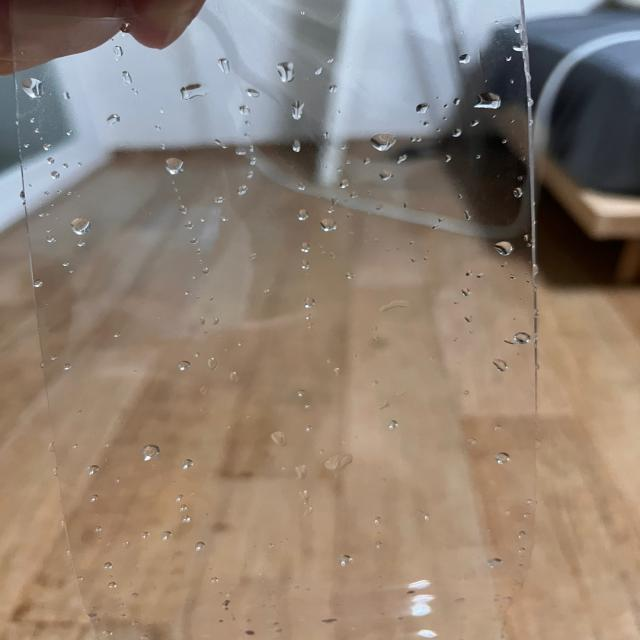raindrop: (276, 60, 306, 90), (179, 81, 213, 104), (135, 440, 164, 462), (263, 428, 294, 448), (324, 452, 355, 471), (474, 91, 502, 112), (24, 76, 48, 100), (167, 153, 189, 178), (66, 216, 96, 234), (371, 134, 402, 150), (290, 100, 306, 130), (171, 356, 197, 373), (121, 69, 143, 89), (202, 355, 225, 373), (319, 216, 341, 234), (292, 204, 310, 224), (234, 103, 259, 117), (237, 180, 255, 197), (378, 167, 396, 184), (286, 138, 304, 154), (493, 356, 509, 374), (515, 329, 531, 346), (496, 242, 514, 257), (304, 295, 323, 309), (104, 113, 126, 125), (455, 53, 474, 66), (219, 58, 236, 72), (299, 257, 313, 274), (295, 240, 314, 252), (32, 277, 48, 291), (176, 458, 200, 467), (242, 87, 264, 96), (462, 312, 477, 325), (44, 235, 63, 245), (235, 146, 252, 156), (58, 258, 75, 268), (417, 102, 430, 115), (48, 169, 62, 181), (78, 239, 92, 250), (453, 127, 466, 138), (337, 178, 351, 188), (211, 196, 227, 204), (469, 118, 483, 127), (85, 464, 96, 474)
